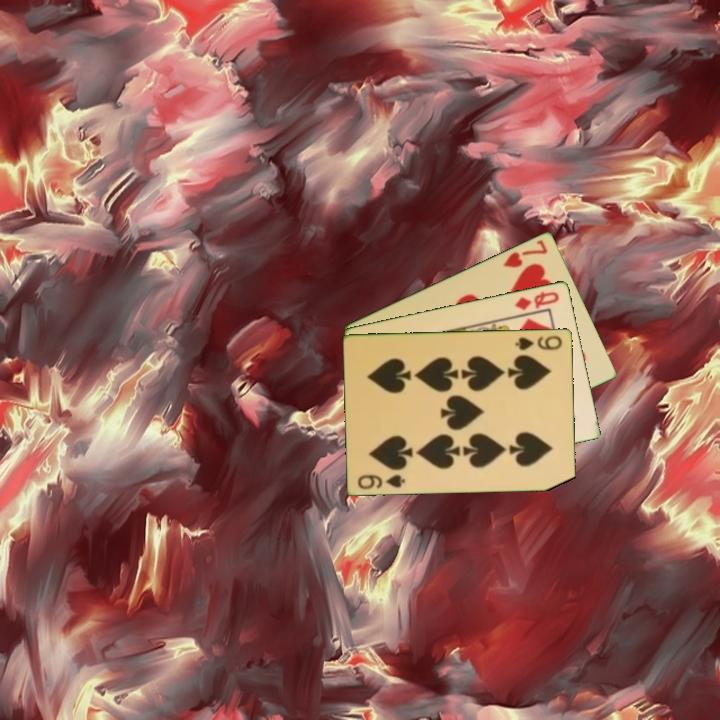7h: (499, 236, 551, 270)
9s: (354, 471, 408, 492), (512, 332, 565, 353)
Qd: (511, 288, 562, 313)
